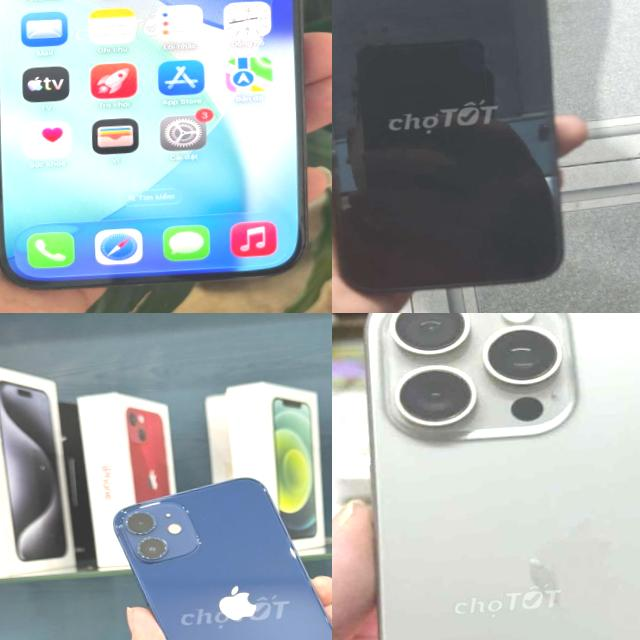gen_12_13: (106, 466, 332, 640)
gen_14: (332, 0, 588, 303)
gen_15: (0, 0, 332, 307), (332, 313, 640, 640)
